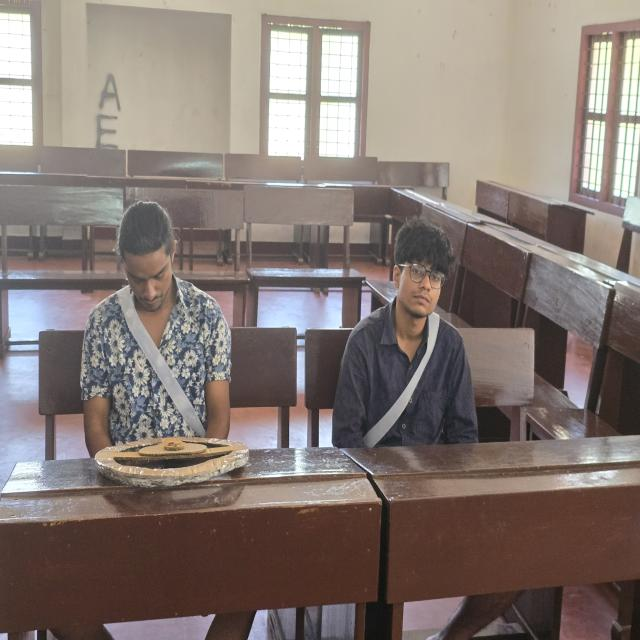seatbelt: (115, 285, 217, 452), (359, 305, 446, 448)
